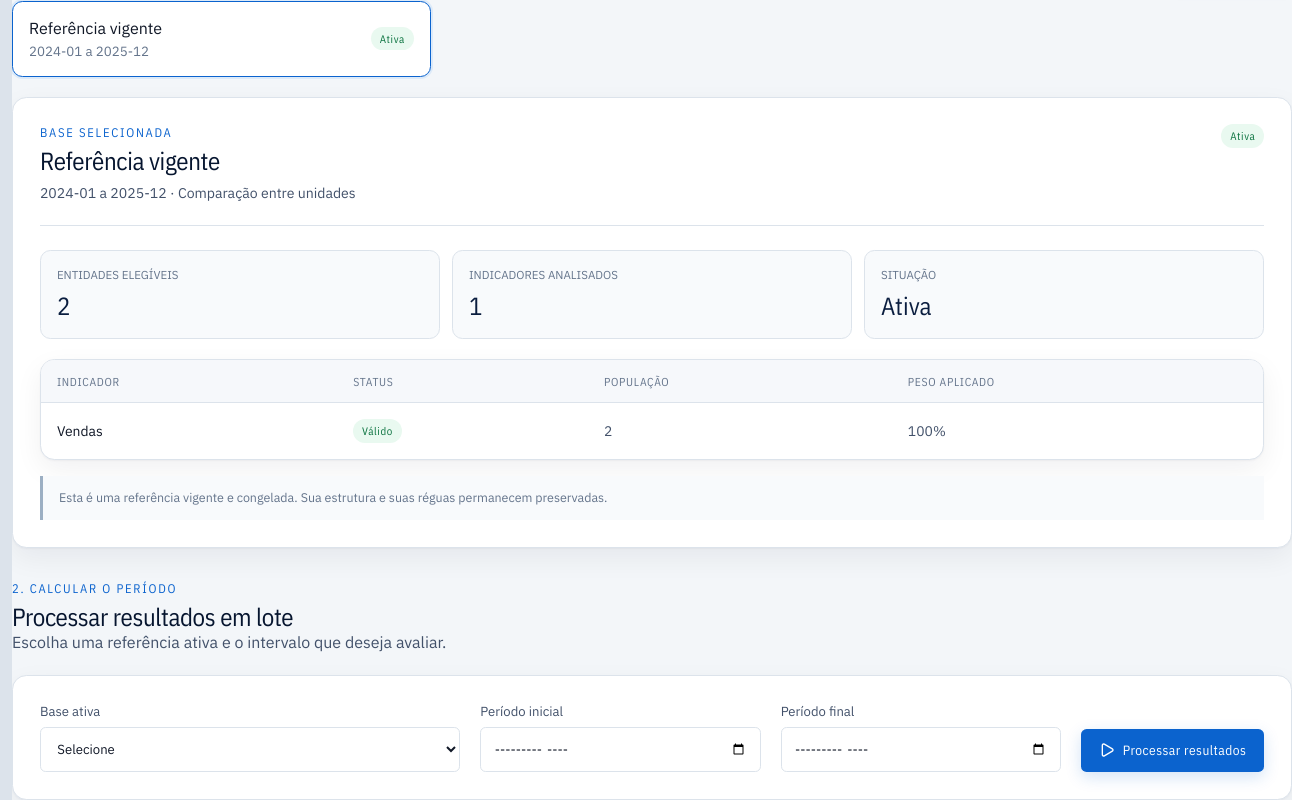
Test: fluxo gerencial de avaliações › processa um intervalo em lote e apresenta o resumo por entidade e período
The image size is (1292, 800).
(page scrolled)
Select "Referência vigente" in the dropdown labelled "Base ativa" at (250, 750), box [40,727,460,772]
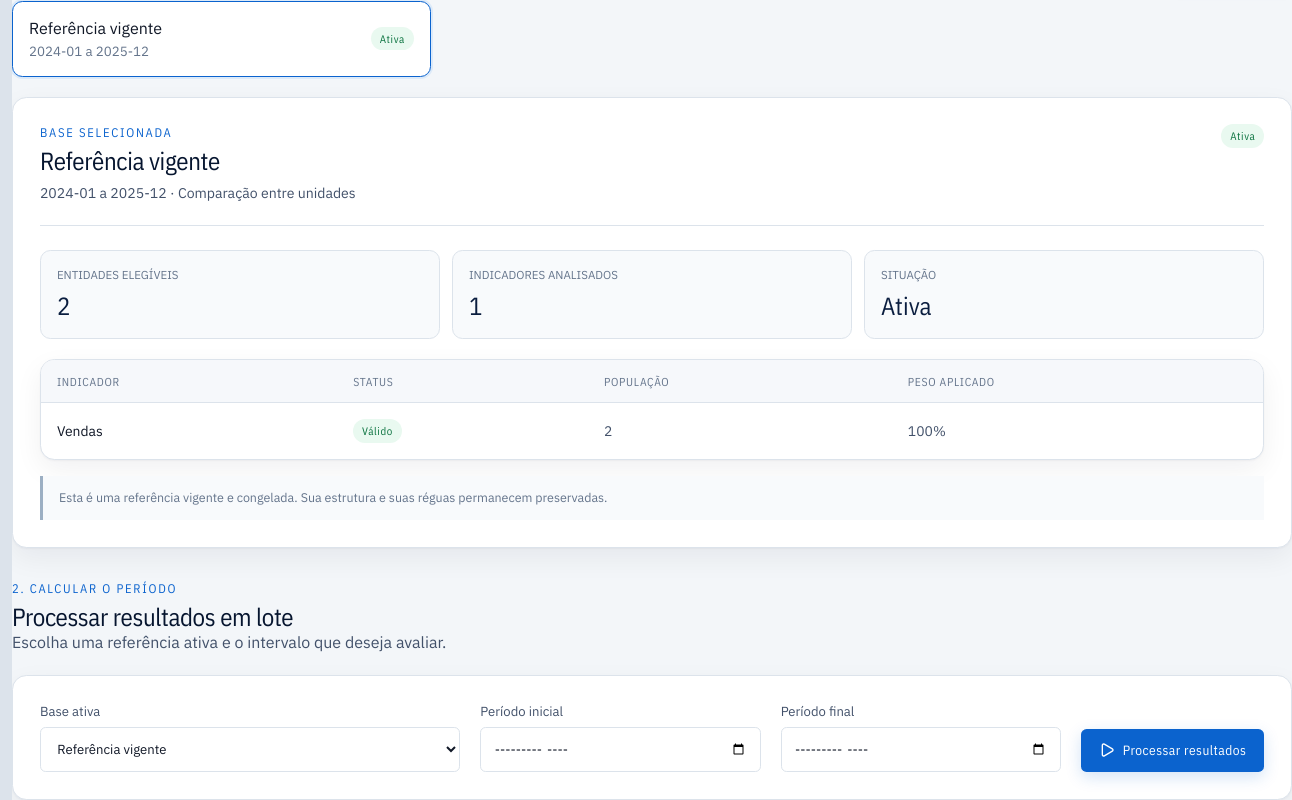
Type "2026-04" into the field labelled "Período inicial" at (620, 750), box [480,727,761,772]
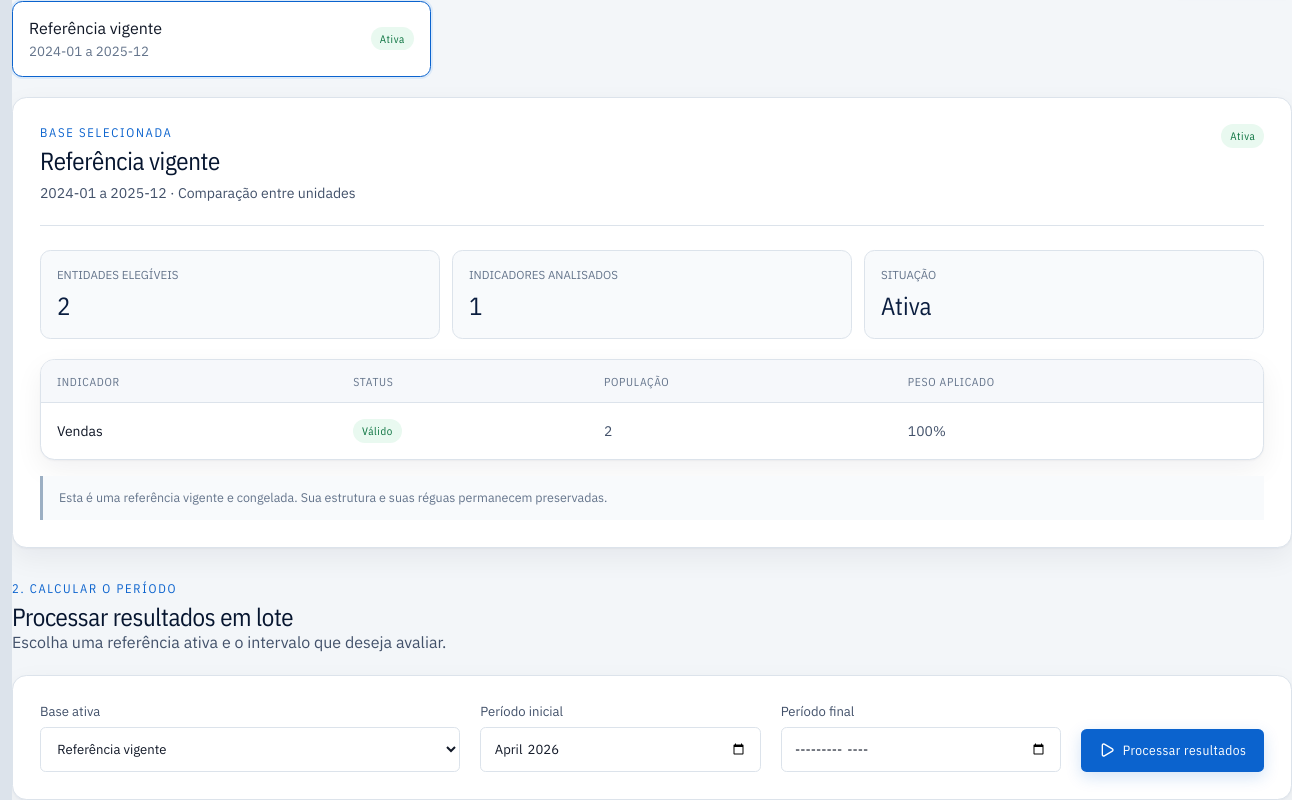
Type "2026-05" into the field labelled "Período final" at (921, 750), box [781,727,1061,772]
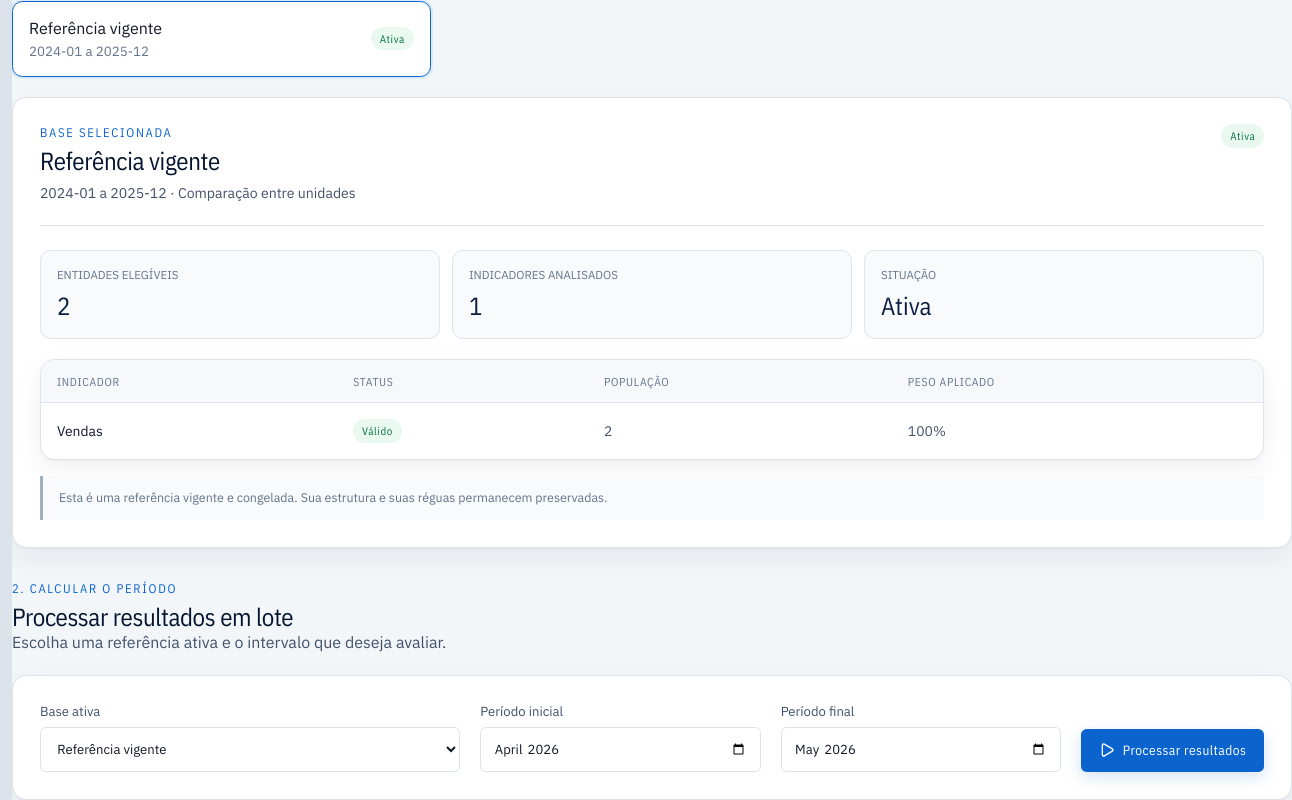
Click the button "Processar resultados" at (1172, 750), box [1081,729,1264,772]
(page scrolled)
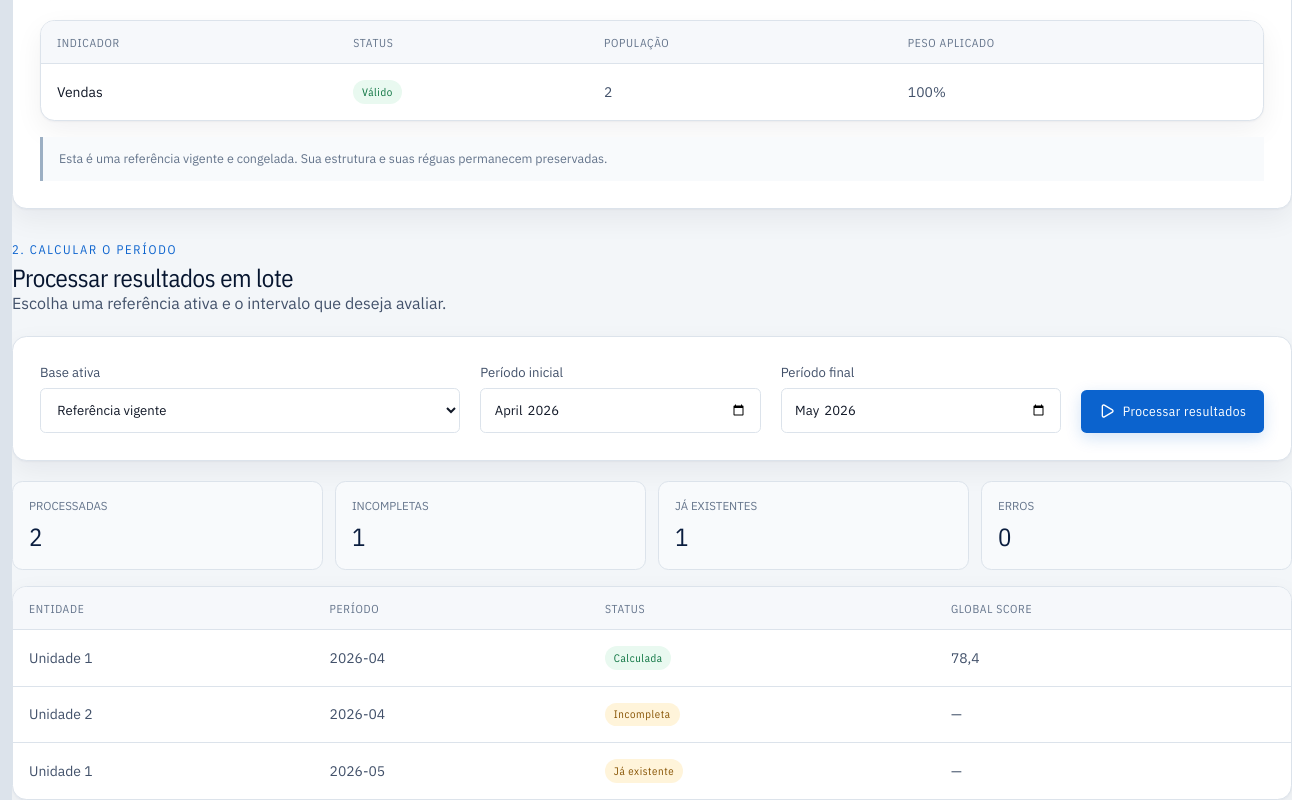
Now the text "Processadas" is shown, box [29,498,108,513]
Now the text "Incompletas" is shown, box [352,498,429,513]
Now the text "Já existentes" is shown, box [675,498,757,513]
